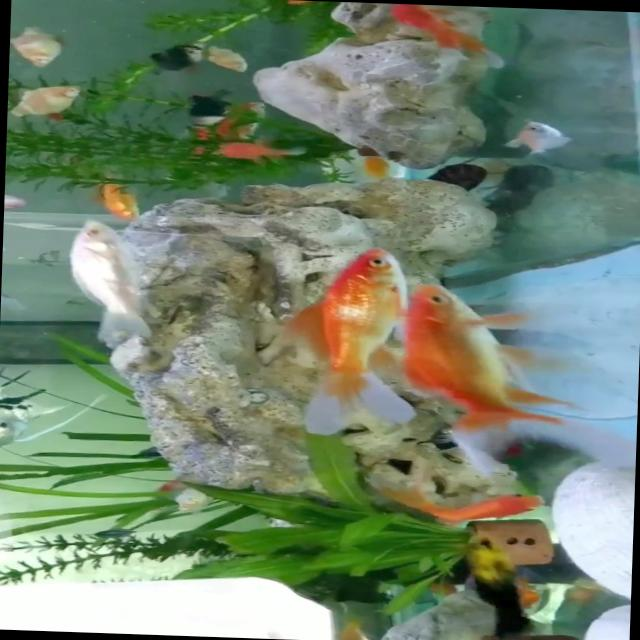GoldFish: (390, 266, 582, 444), (275, 229, 417, 448)
